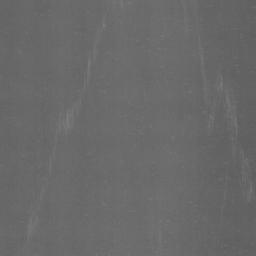Silk spot: (252, 168, 256, 196)
